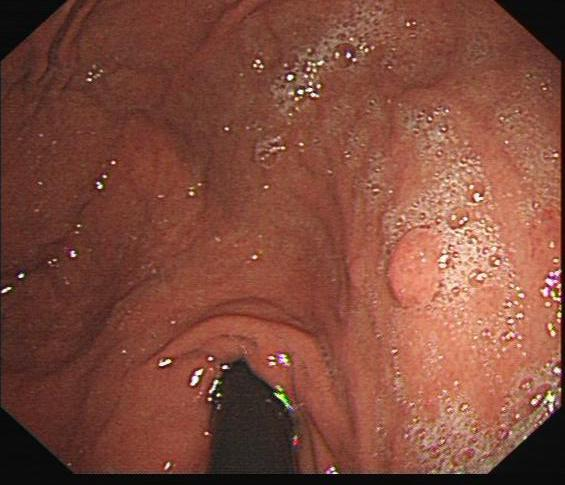Polyp: (383, 230, 451, 306)
